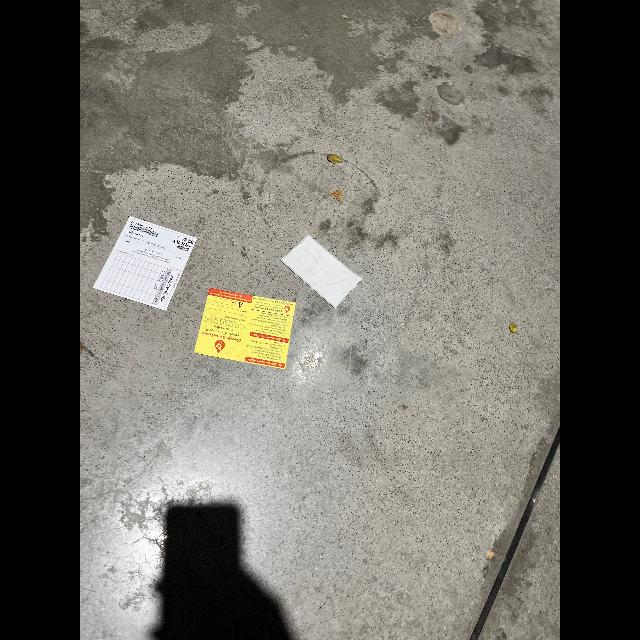scrap_paper: (86, 214, 204, 312), (194, 284, 300, 380), (283, 225, 367, 317)
